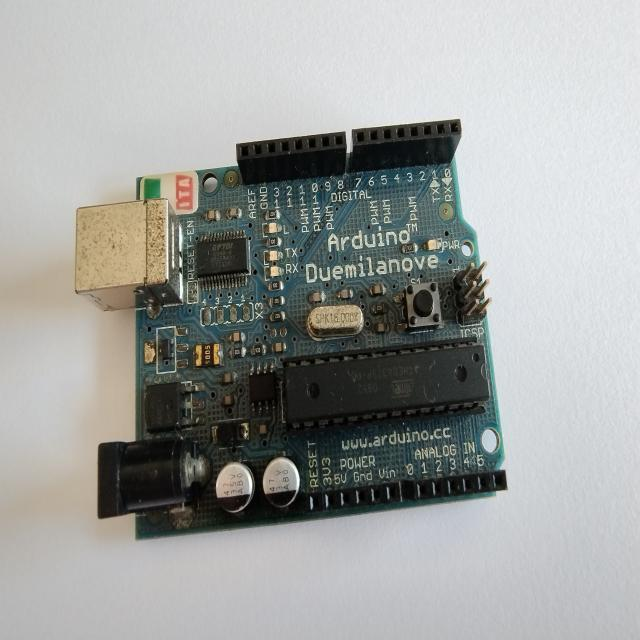arduino: (69, 113, 520, 545)
